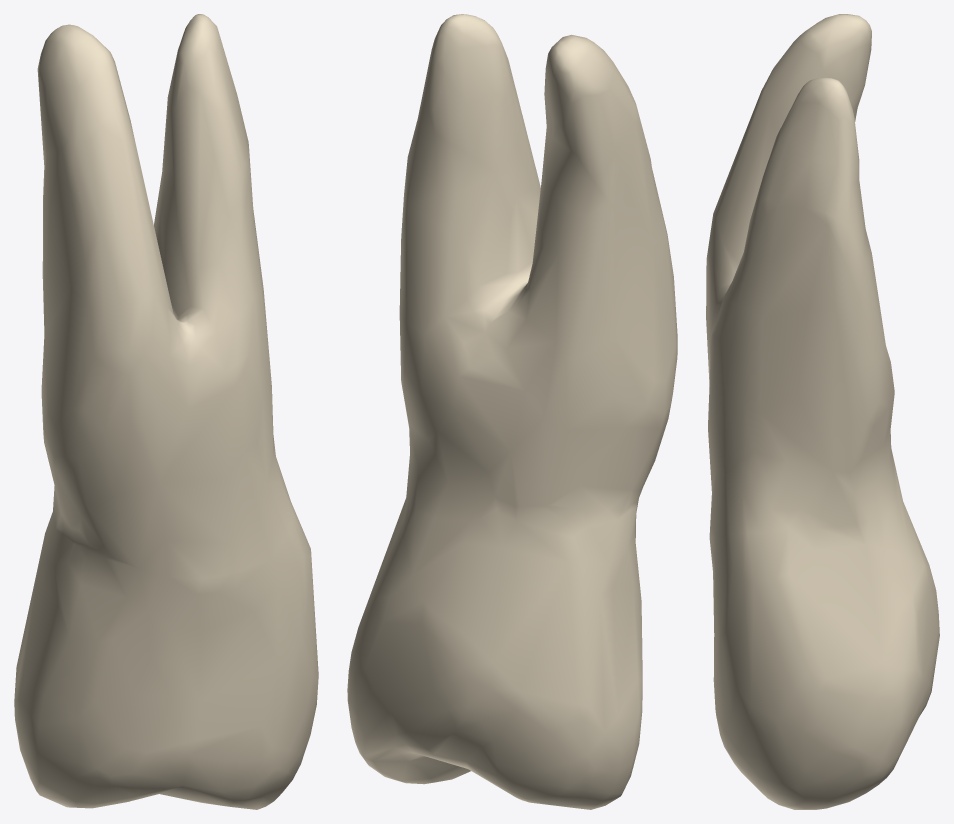
Rendered from upper-second-premolar-l.glb.
3 renders of one model, left to right at view 1: azimuth 30°, elevation 25°; view 2: azimuth 150°, elevation 25°; view 3: azimuth 270°, elevation 25°, orthographic. The views are drawn at different scales.
Parts seen in each view (by area): view 1: Upper second premolar.l; view 2: Upper second premolar.l; view 3: Upper second premolar.l.
Part boxes in pixels (x1=…): Upper second premolar.l: x1=14, y1=14, x2=318, y2=809; Upper second premolar.l: x1=347, y1=14, x2=677, y2=809; Upper second premolar.l: x1=706, y1=14, x2=939, y2=809.
Bounding box in the file's own units: 0.00909 × 0.0253 × 0.00743.
